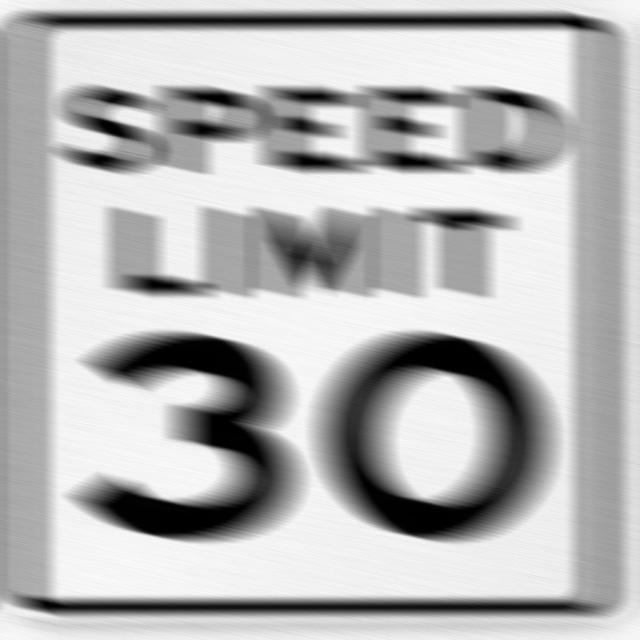speedLimit30: (4, 9, 618, 613)
